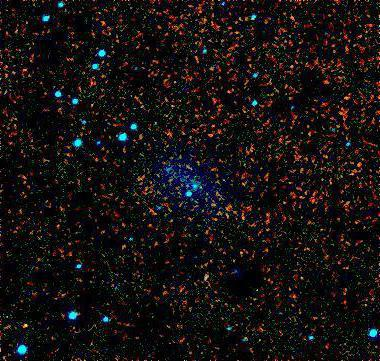star: (8, 306, 38, 336)
